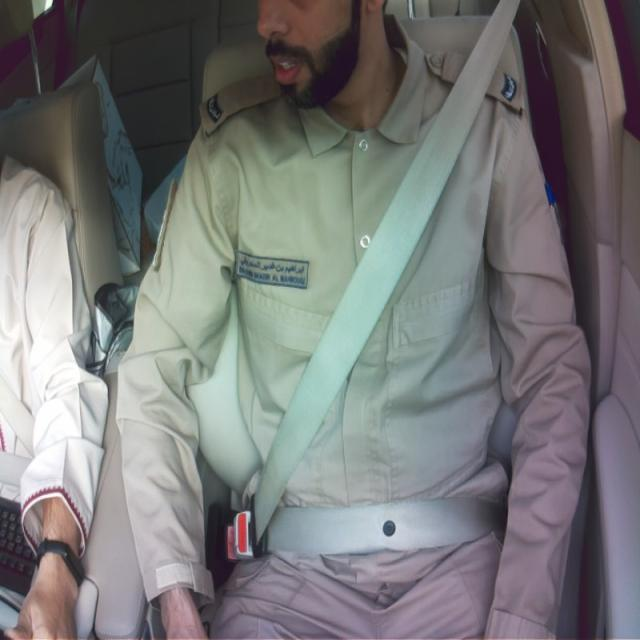seatbelt: (254, 0, 518, 555)
